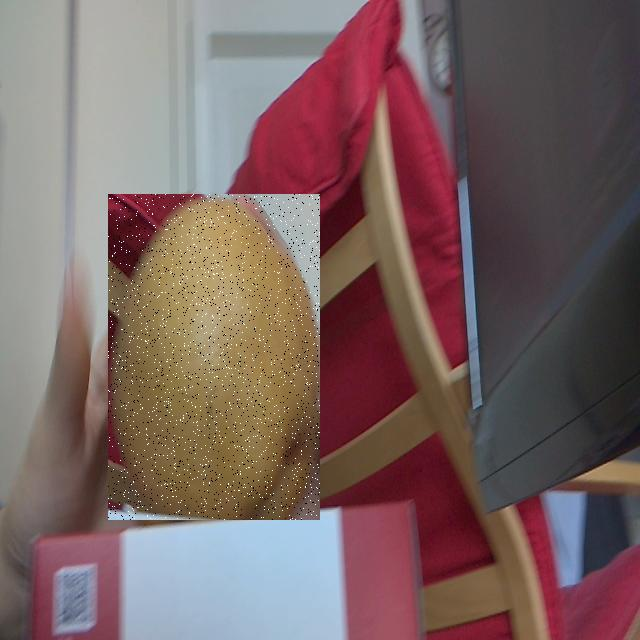pear: (108, 194, 320, 520)
